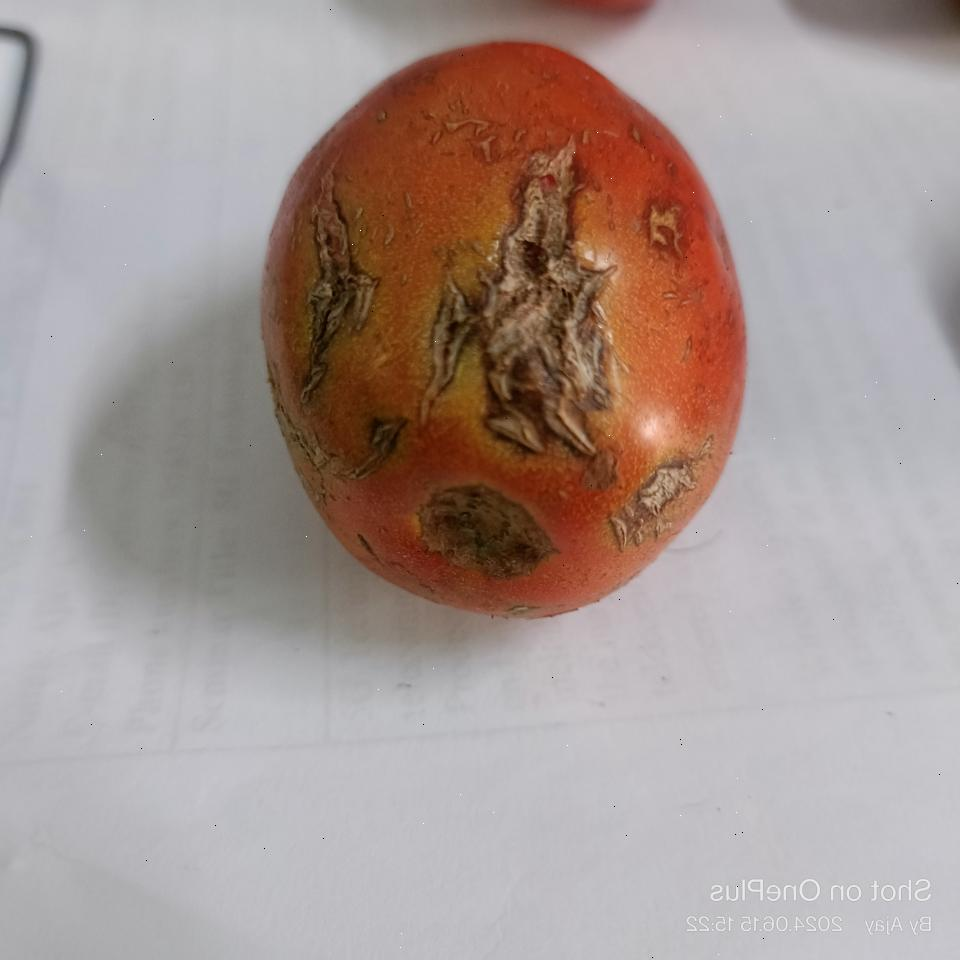Cracking: (433, 151, 636, 495), (407, 480, 575, 588), (614, 431, 711, 551), (626, 174, 698, 271)
